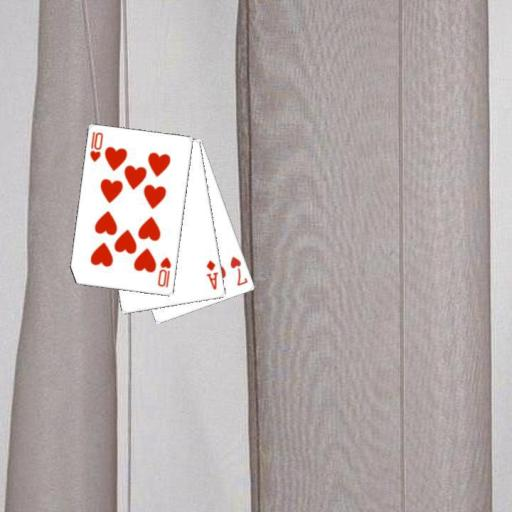10H: (155, 254, 173, 289), (87, 129, 105, 164)
7H: (227, 253, 250, 288)
AD: (203, 257, 220, 291)
